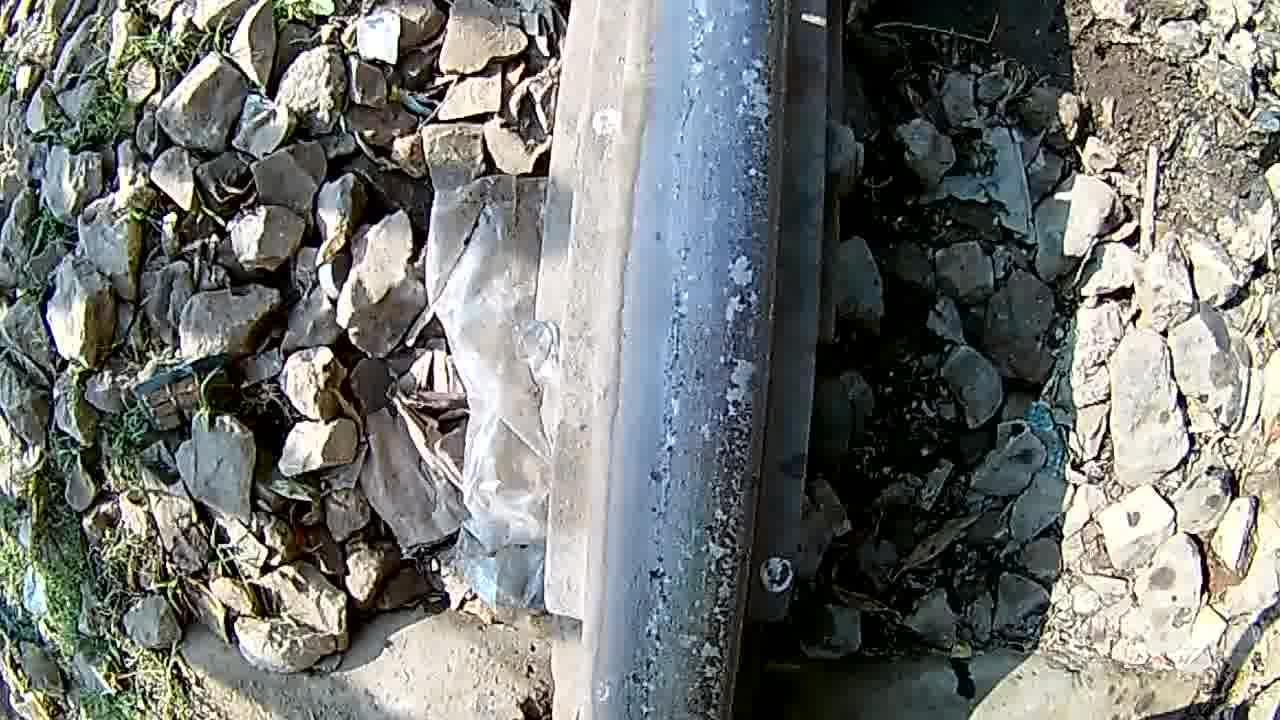crack: (606, 3, 792, 720)
